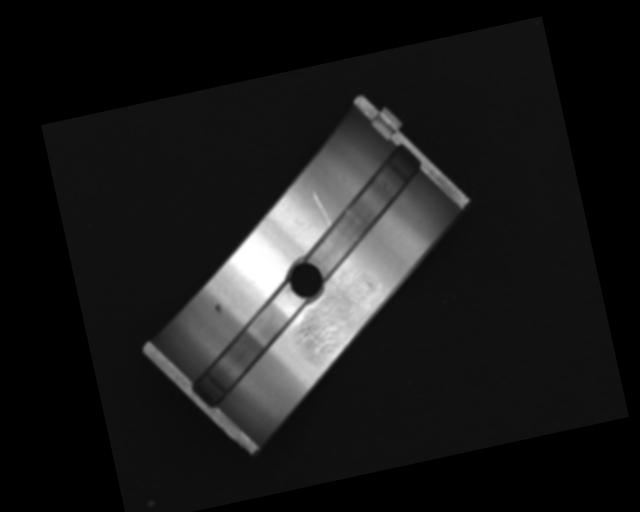bruise: (213, 302, 224, 316)
gap: (284, 149, 437, 276), (175, 285, 319, 407)
hole: (282, 257, 328, 303)
nick: (313, 188, 331, 228)
scratch: (285, 263, 391, 359)
